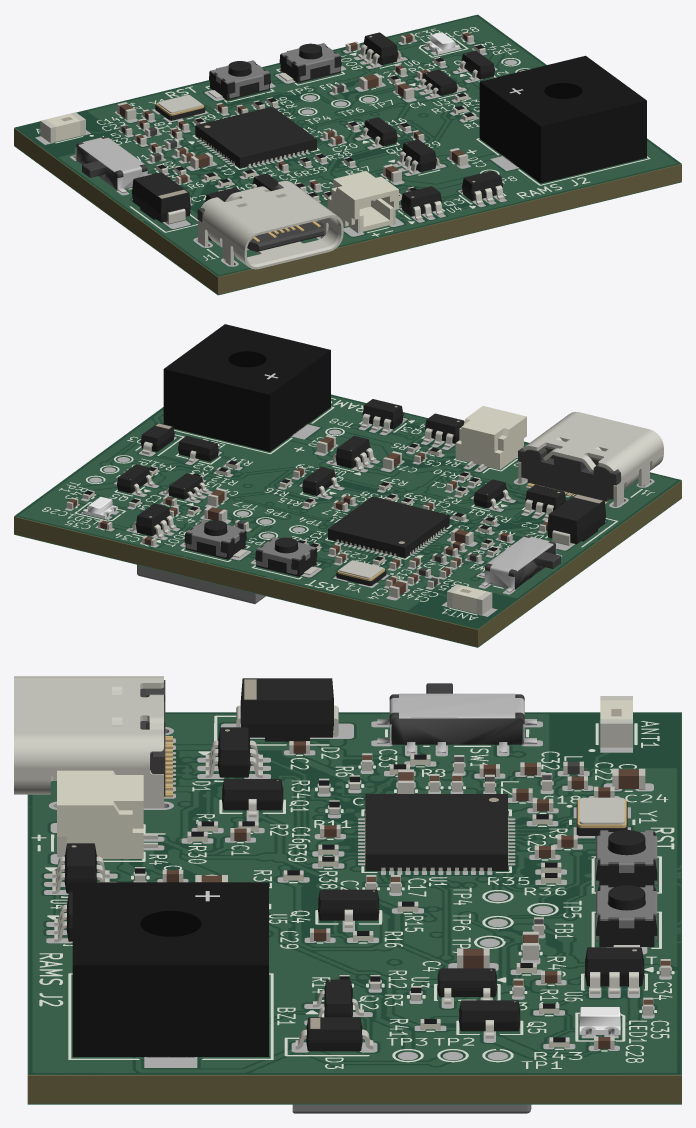
File: custom-smd.glb
The picture shows the model from 3 angles, top to bottom: view 1: azimuth 30°, elevation 25°; view 2: azimuth 150°, elevation 25°; view 3: azimuth 270°, elevation 25°; orthographic projection. The views are drawn at different scales.
Parts seen in each view (by area): view 1: RAMS wearable; view 2: RAMS wearable; view 3: RAMS wearable.
Boxes of the visible parts, x1=… form: RAMS wearable: x1=14, y1=14, x2=681, y2=295; RAMS wearable: x1=14, y1=324, x2=681, y2=647; RAMS wearable: x1=14, y1=676, x2=681, y2=1113.
Bounding box in the file's own units: 0.0423 × 0.0097 × 0.0327.
33 materials, 2 textured.
